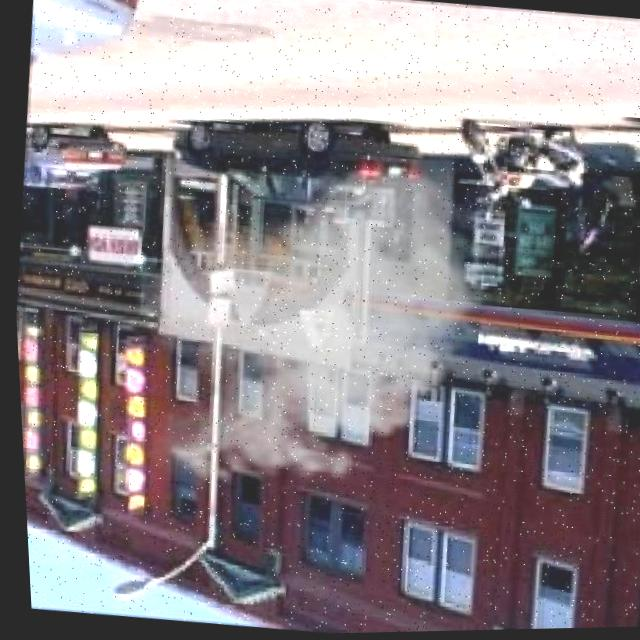no_helmet: (177, 149, 486, 500)
